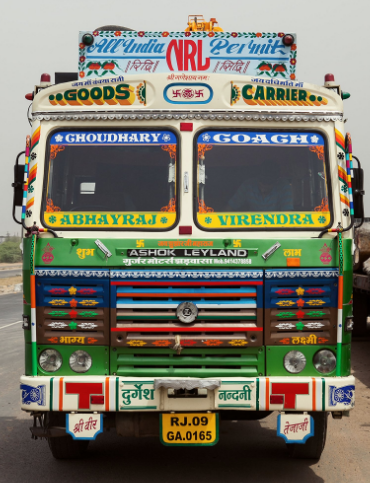truck: (9, 18, 356, 471)
